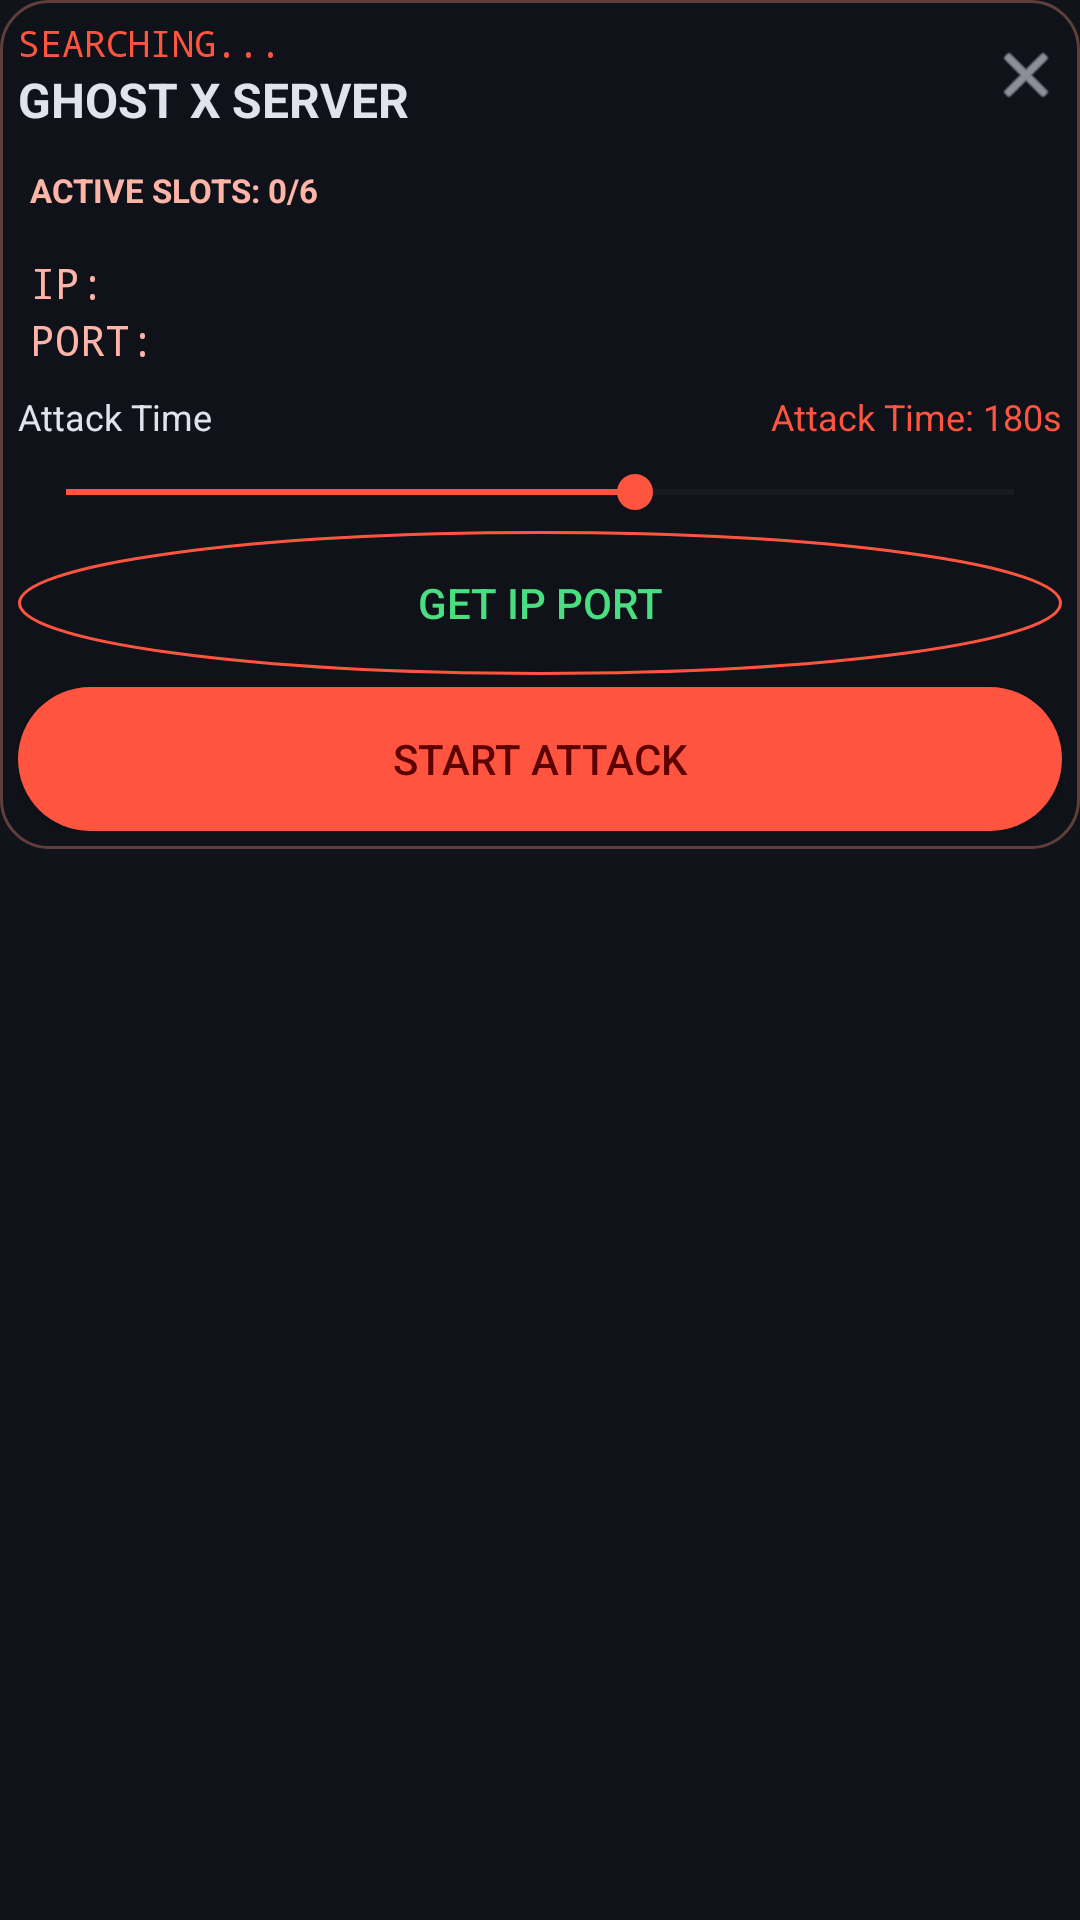

Screen size 1080x1920. Icon name, then its center in pixels as (x,y):
close clear cancel: (1026,75)
